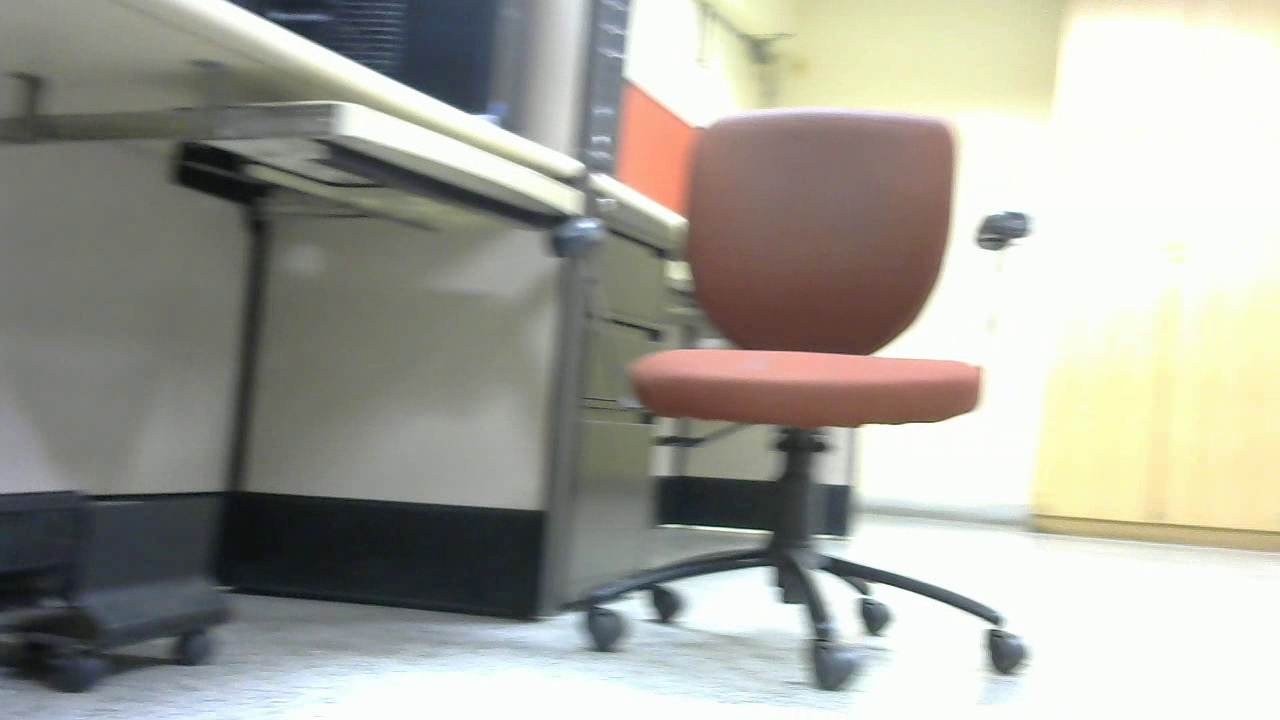chair: (330, 210, 577, 534), (1, 161, 137, 500)
